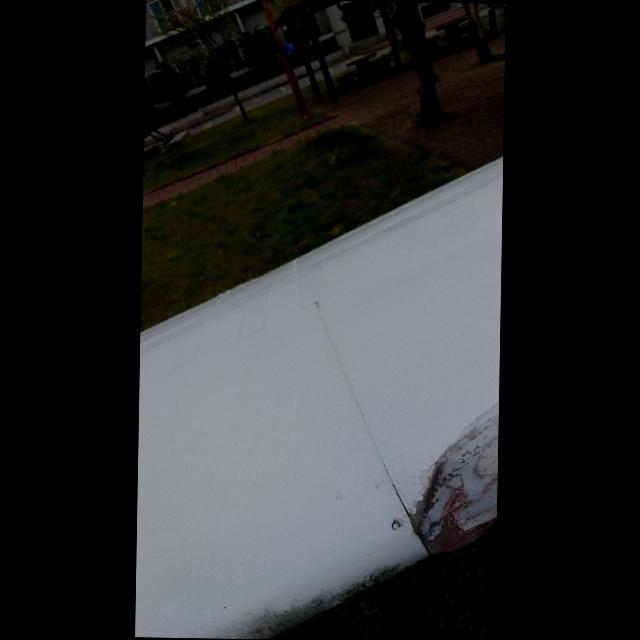dent: (410, 408, 498, 561)
